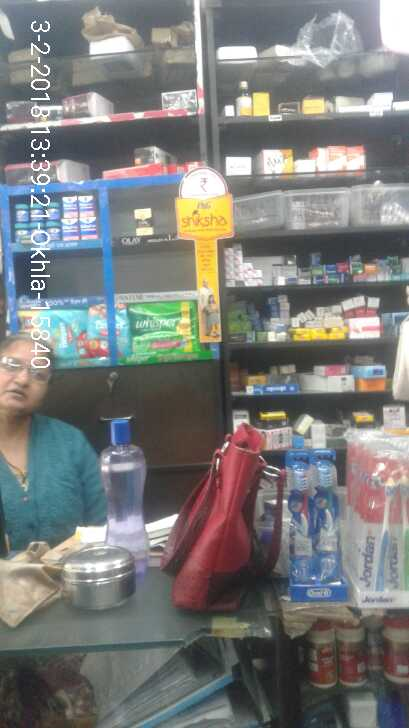vicks: (283, 443, 343, 604), (12, 191, 97, 243)
